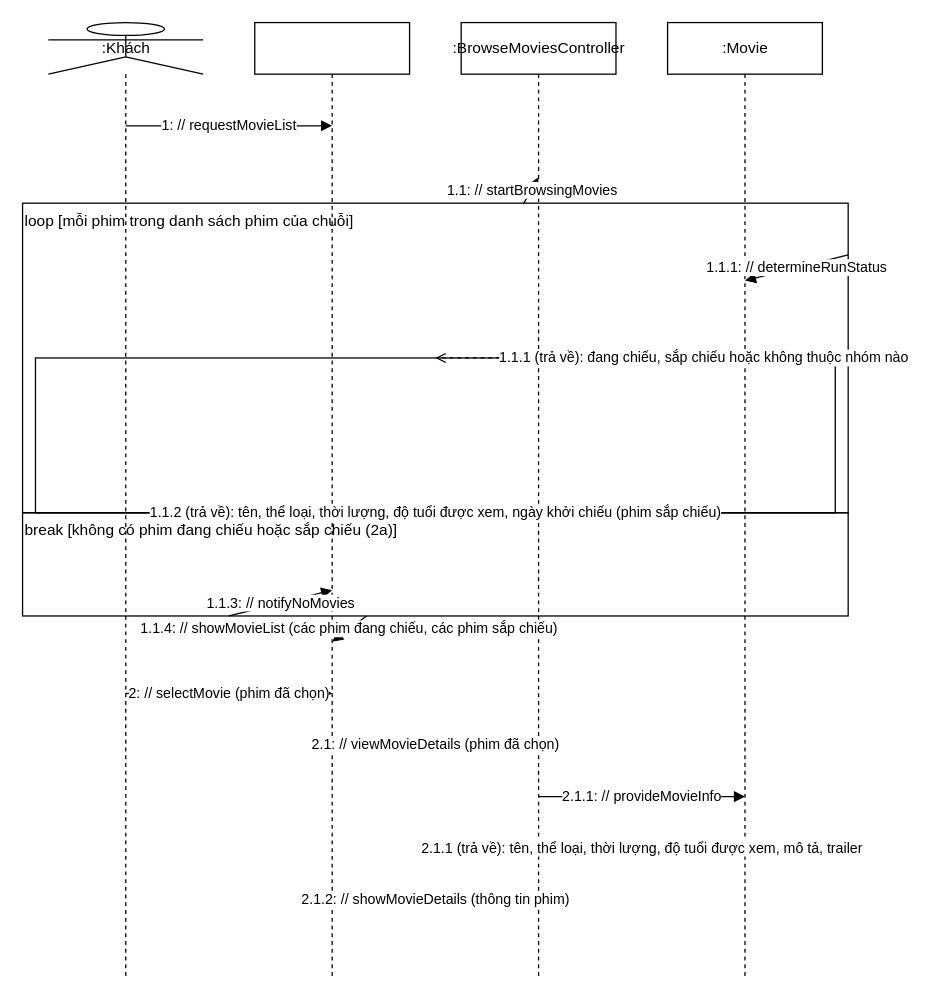
Image size: 930x1000. Some labels were removed from this diagram. The centre of each missing label's shape, as x and y in pixels:
:BrowseMoviesForm: point 331,499
opt [phim đang chiếu hoặc sắp chiếu]: point 434,435
